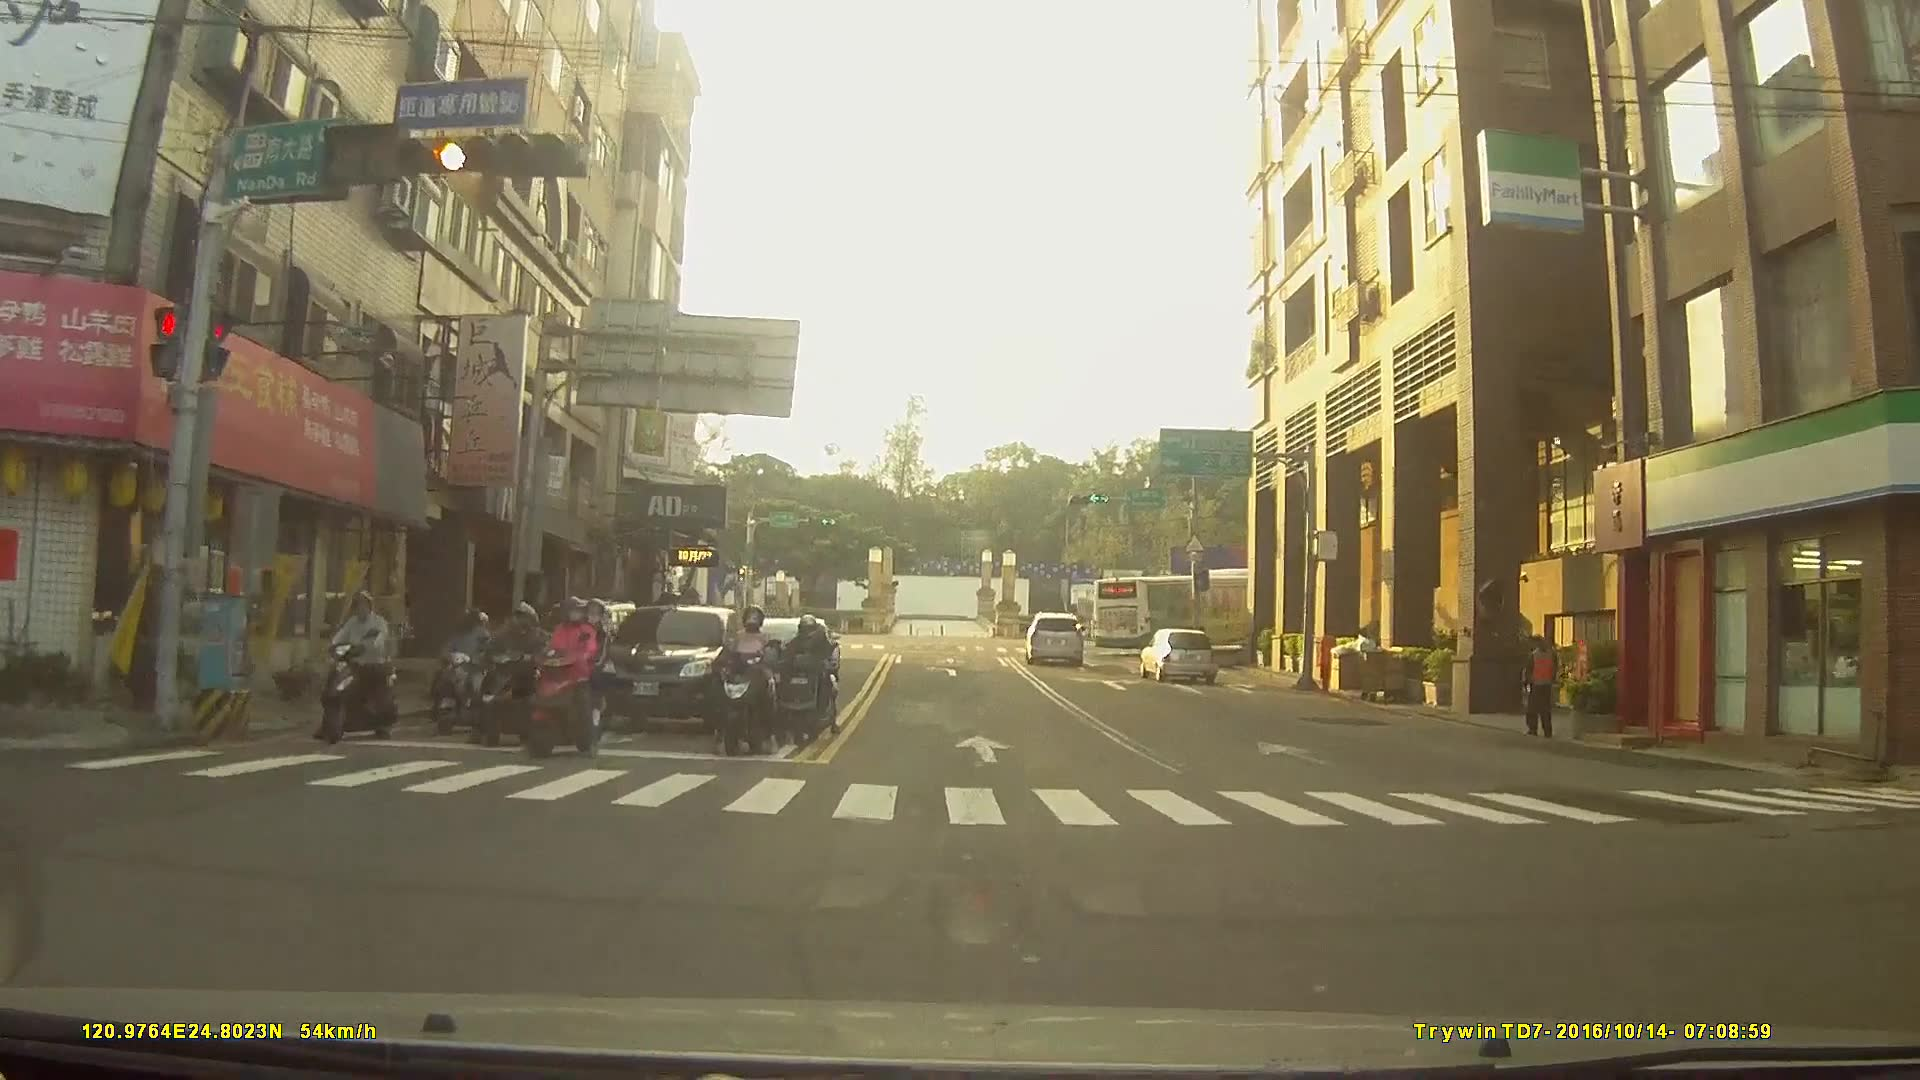pedestrian: (1514, 638, 1568, 747)
rider: (520, 596, 612, 762), (321, 594, 400, 746), (470, 594, 549, 746), (715, 608, 785, 754), (432, 607, 501, 733), (770, 616, 835, 747)
vehicle: (586, 601, 749, 730), (1091, 563, 1294, 660), (1137, 629, 1218, 686), (1022, 609, 1083, 661)
